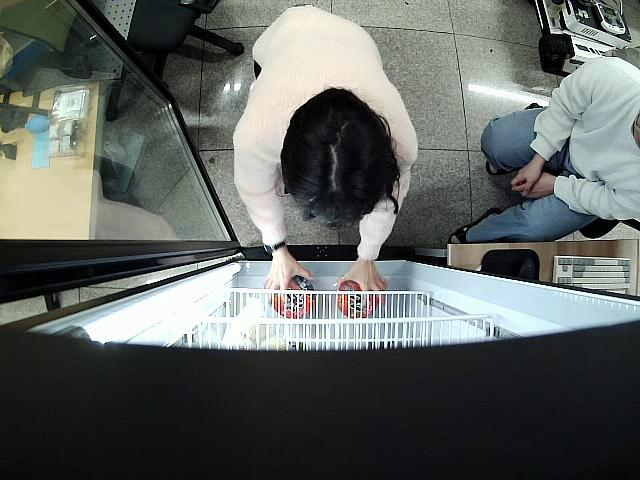00_hand: (333, 262, 389, 312), (265, 259, 315, 309)
01_shinRamen_L: (270, 274, 316, 318), (338, 277, 380, 320)
